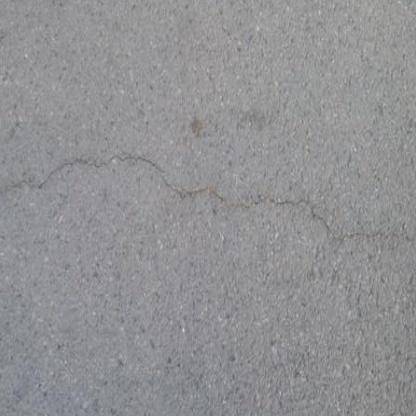Cracks: (0, 117, 416, 291)
